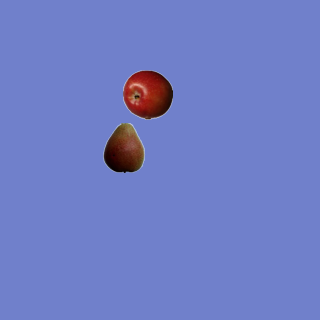Apple Braeburn: (122, 69, 172, 119)
Pear Forelle: (98, 122, 148, 172)
